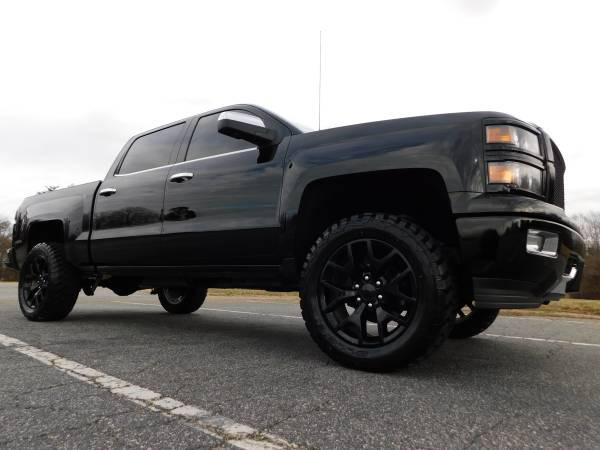Front_Bumper: (451, 196, 591, 313)
Front_Fender: (277, 115, 490, 266)
Front_Right_Door: (165, 142, 289, 268)
Front_Right_Window: (179, 105, 295, 164)
Rear_Fender: (8, 183, 98, 284)
Rear_Right_Door: (90, 168, 172, 272)
Rear_Right_Window: (110, 117, 194, 178)
Right_Headlight: (485, 125, 549, 207)
Wheel: (298, 211, 453, 369), (16, 242, 78, 323), (153, 289, 209, 314)
